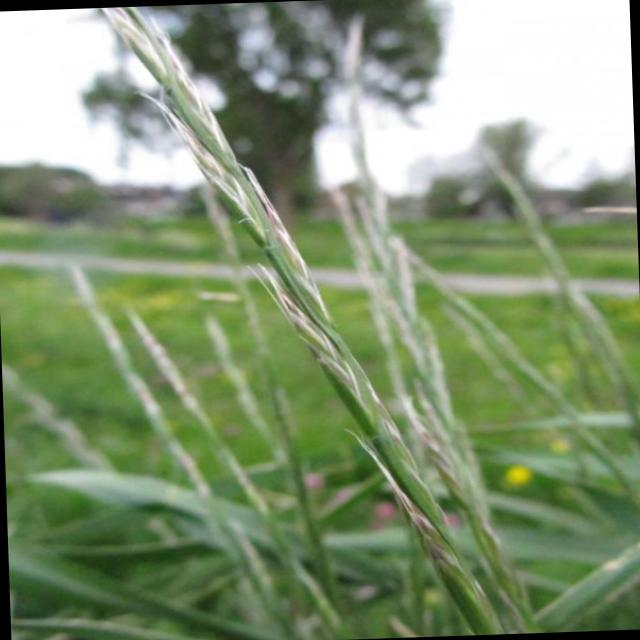Lolium: (106, 0, 460, 569), (328, 18, 506, 556)
